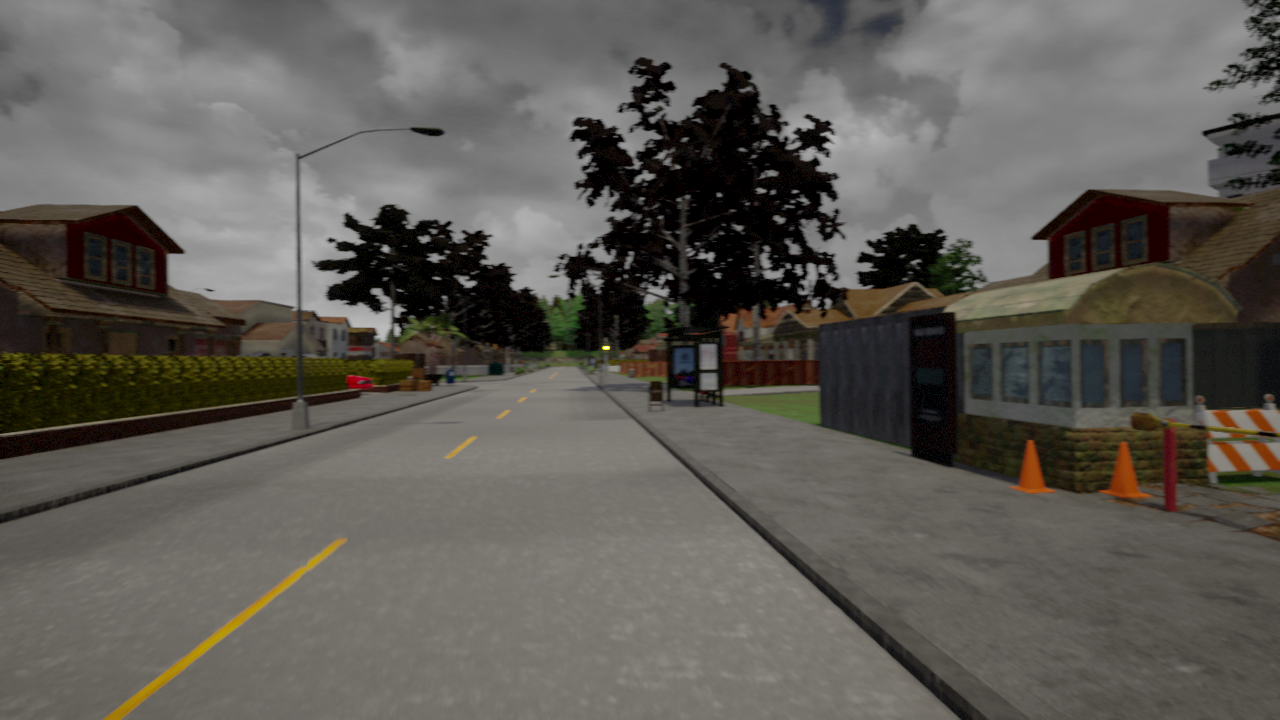yellow: (601, 340, 611, 358)
